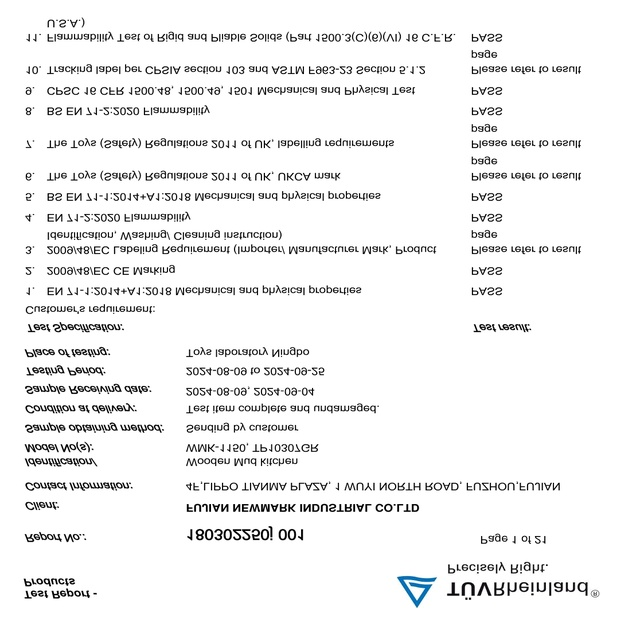tuv_rheinland: (394, 573, 602, 610)
